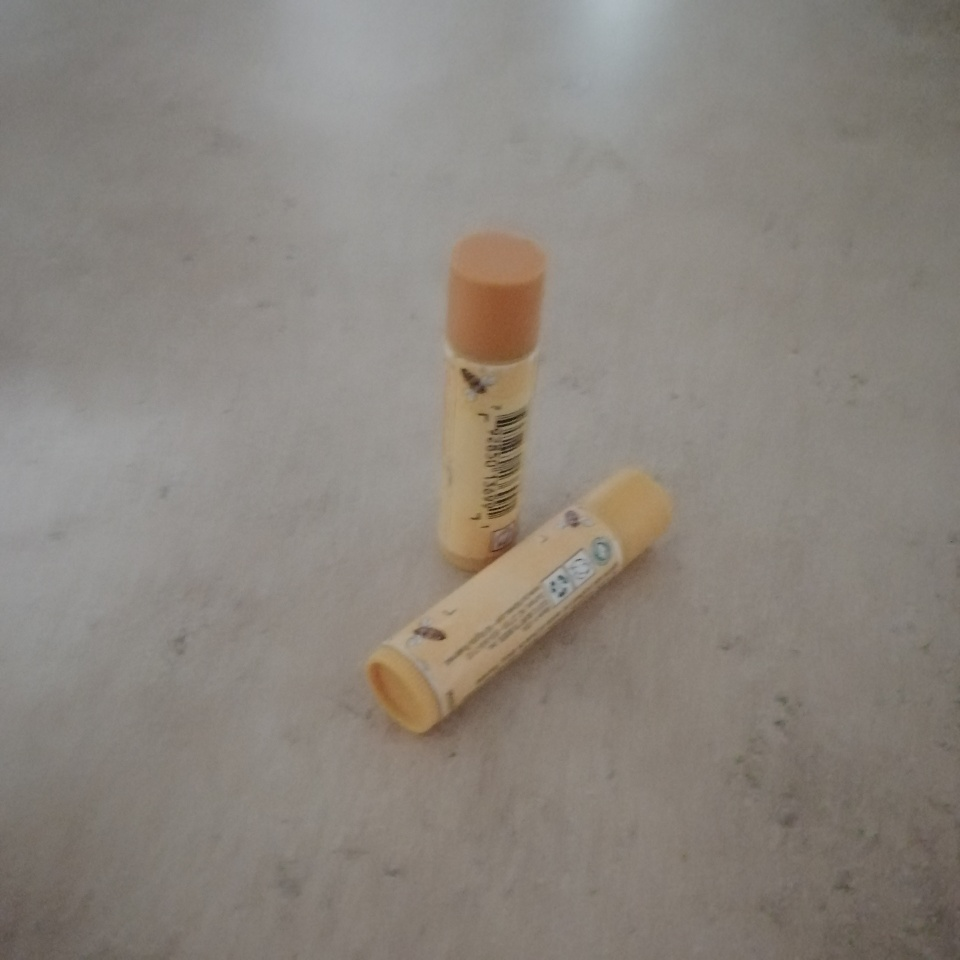chapstick: (364, 468, 670, 737), (437, 230, 546, 572)
